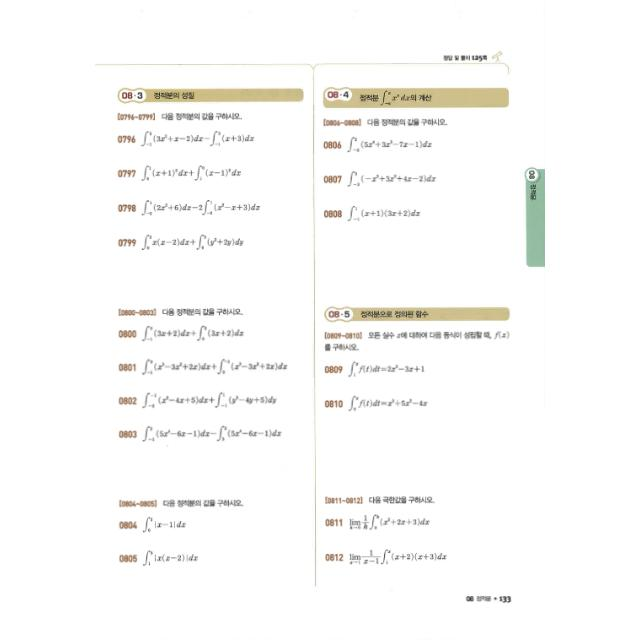many_in_one: (320, 323, 514, 353), (109, 300, 313, 320), (322, 488, 508, 508), (114, 494, 312, 512), (318, 112, 516, 130), (109, 106, 308, 122)
small: (112, 188, 266, 225), (114, 352, 292, 383), (115, 420, 288, 450), (112, 123, 264, 157), (112, 386, 284, 416), (112, 226, 266, 258), (114, 317, 258, 351), (113, 159, 263, 187), (320, 164, 448, 196), (319, 130, 443, 162), (324, 542, 454, 572), (322, 198, 448, 226), (324, 509, 438, 538), (322, 389, 433, 418), (321, 356, 431, 384), (116, 543, 204, 573), (116, 514, 194, 536)
